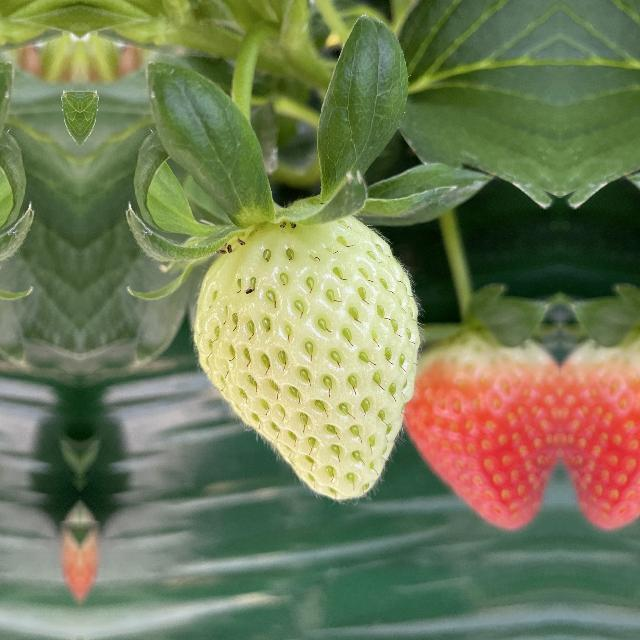Health_100: (399, 330, 559, 530), (561, 330, 640, 529)
Health_25: (182, 217, 424, 501)
